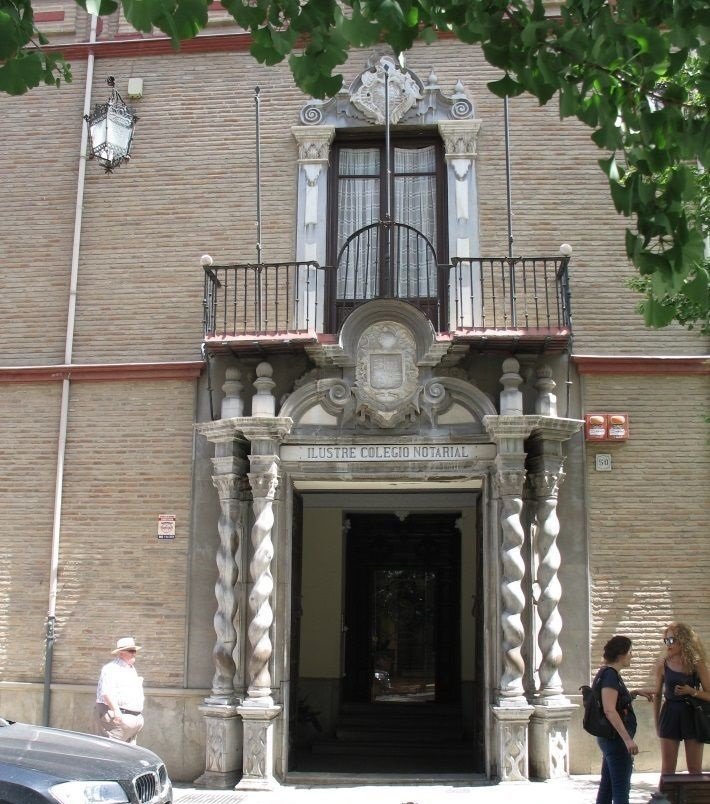columna-salomonica: (486, 485, 533, 709), (530, 483, 572, 707), (204, 481, 244, 701), (245, 474, 283, 702)
fronton-partido: (277, 381, 491, 456)
vano-adintelado: (282, 459, 493, 781), (321, 114, 466, 329)
